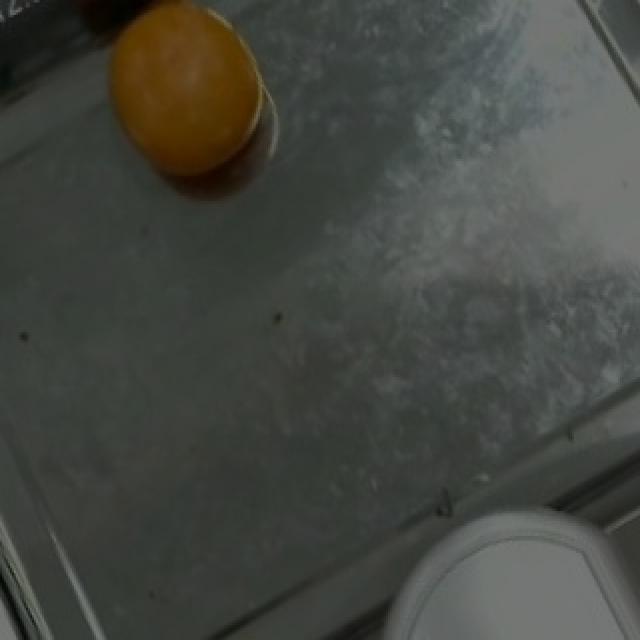Fruit: (80, 0, 288, 206), (394, 516, 638, 640)
